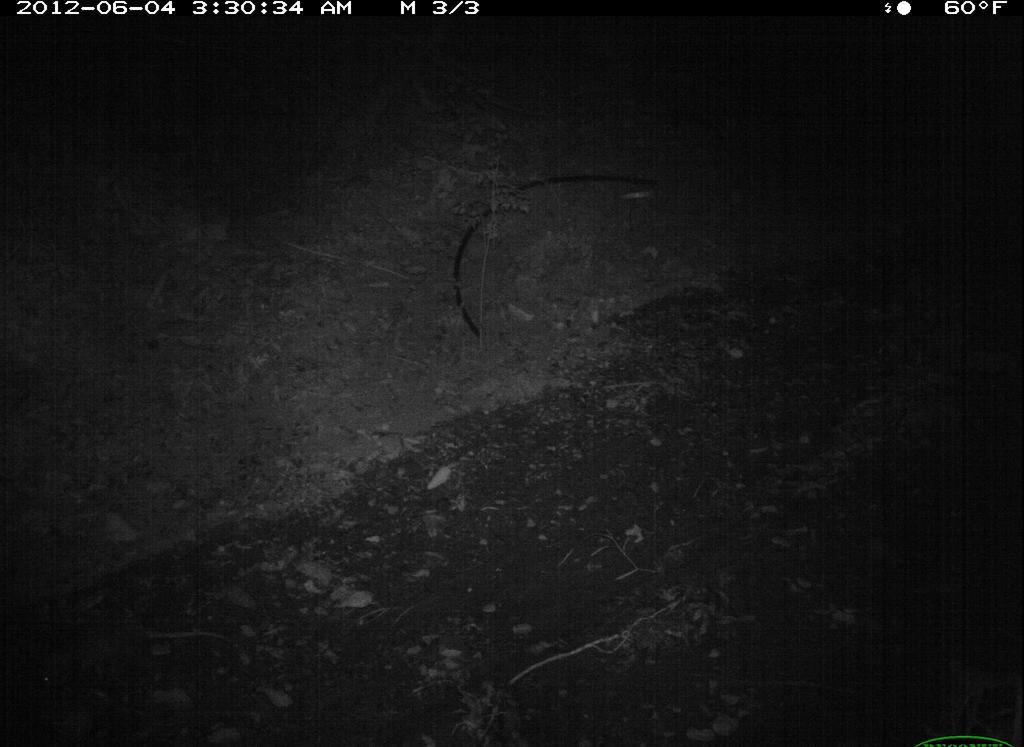opossum: (29, 607, 233, 705)
